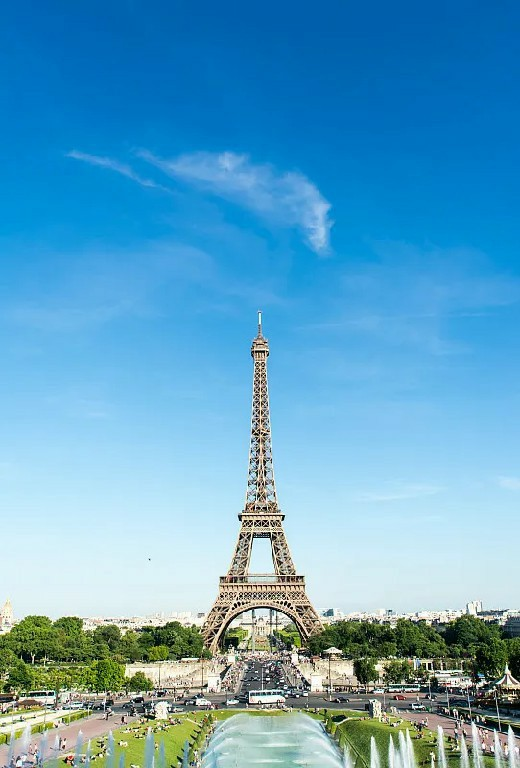Eiffel: (200, 307, 326, 657)
